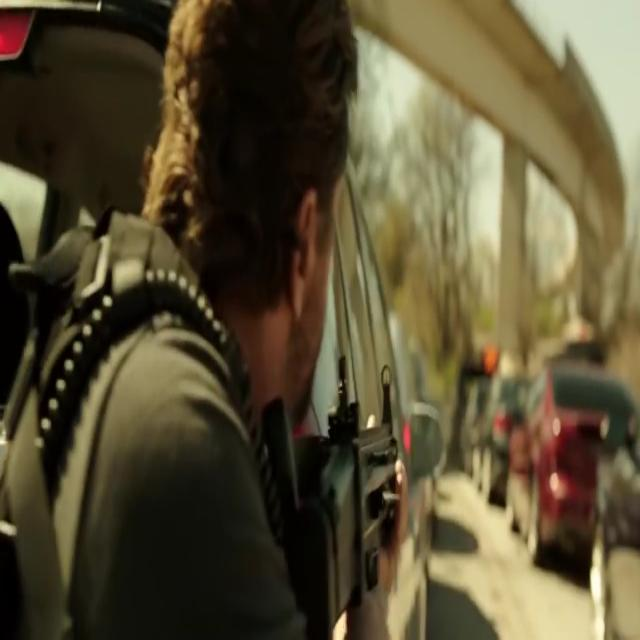Weapon: (224, 347, 440, 614)
